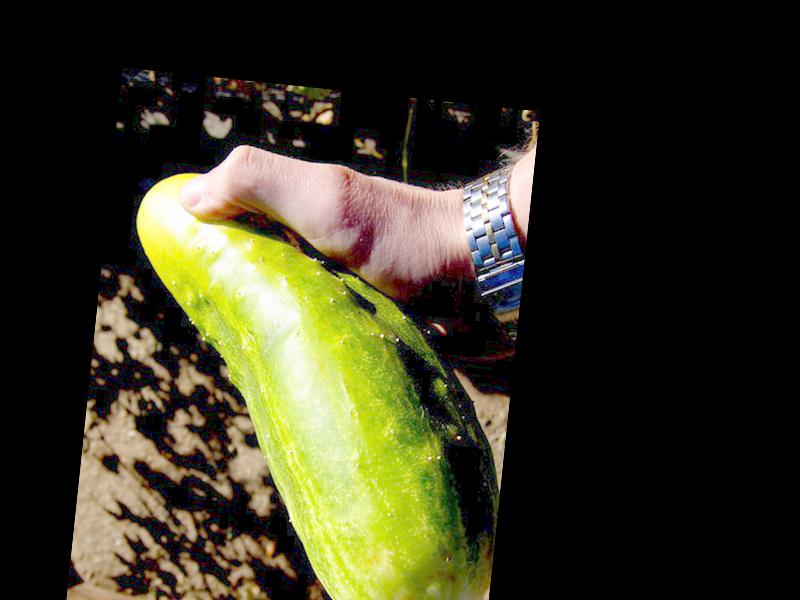Cucumber: (96, 168, 530, 600)
